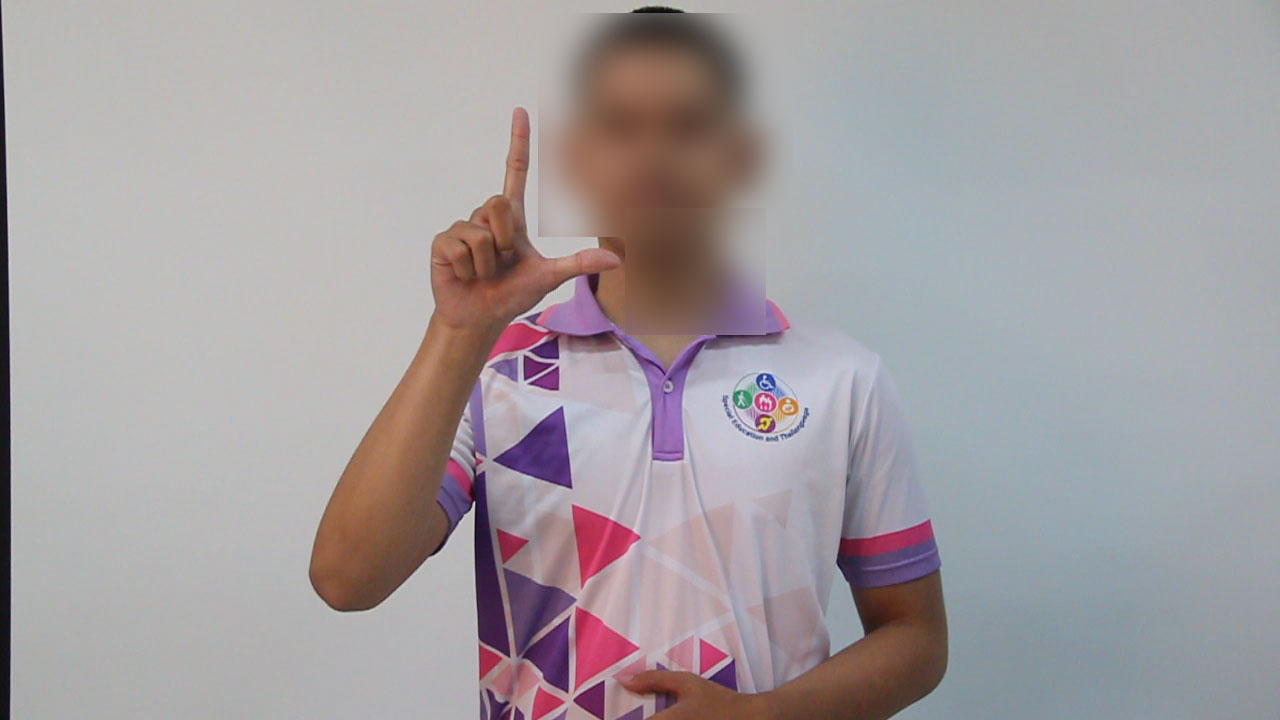lor: (393, 67, 653, 424)
